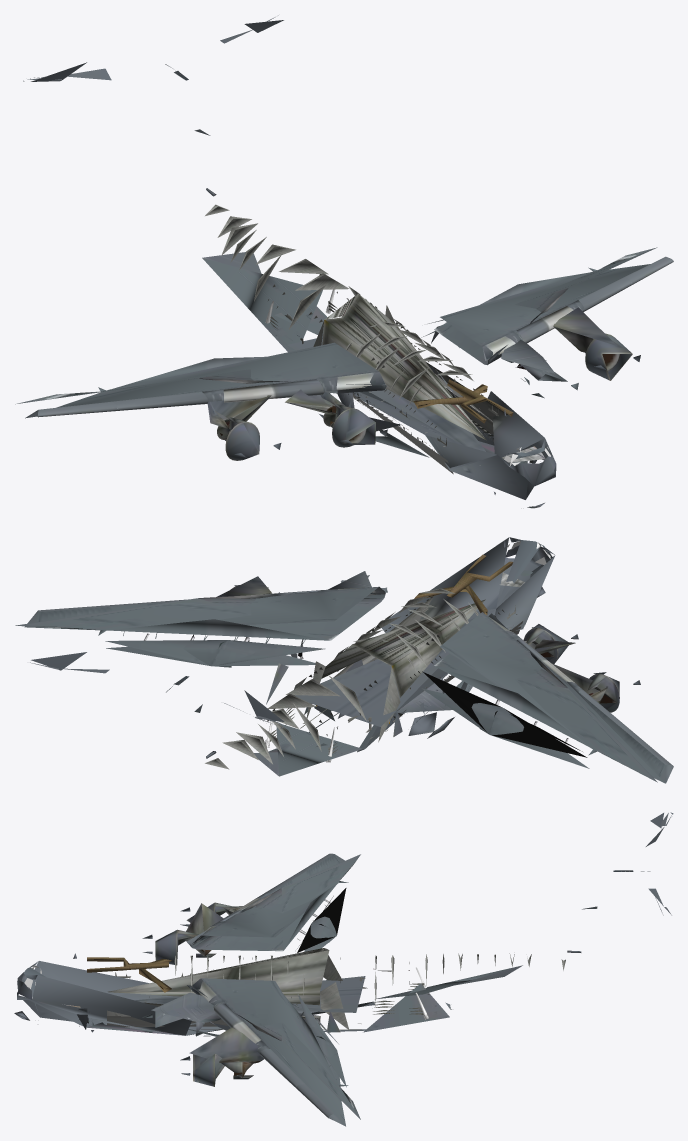
File: cargo_jet_lod1.glb
3 views of the same model, one above another, from view 1: azimuth 30°, elevation 25°; view 2: azimuth 150°, elevation 25°; view 3: azimuth 270°, elevation 25° (orthographic). The views are drawn at different scales.
Visible parts, largest first — view 1: LOD1; view 2: LOD1; view 3: LOD1.
Boxes of the visible parts, x1,y1,x2,y2 form: LOD1: (15,15,673,508); LOD1: (15,537,673,783); LOD1: (14,812,673,1126).
Bounding box in the file's own units: 50.92 × 16.04 × 53.26.
Materials: 30 (30 with a texture image).
